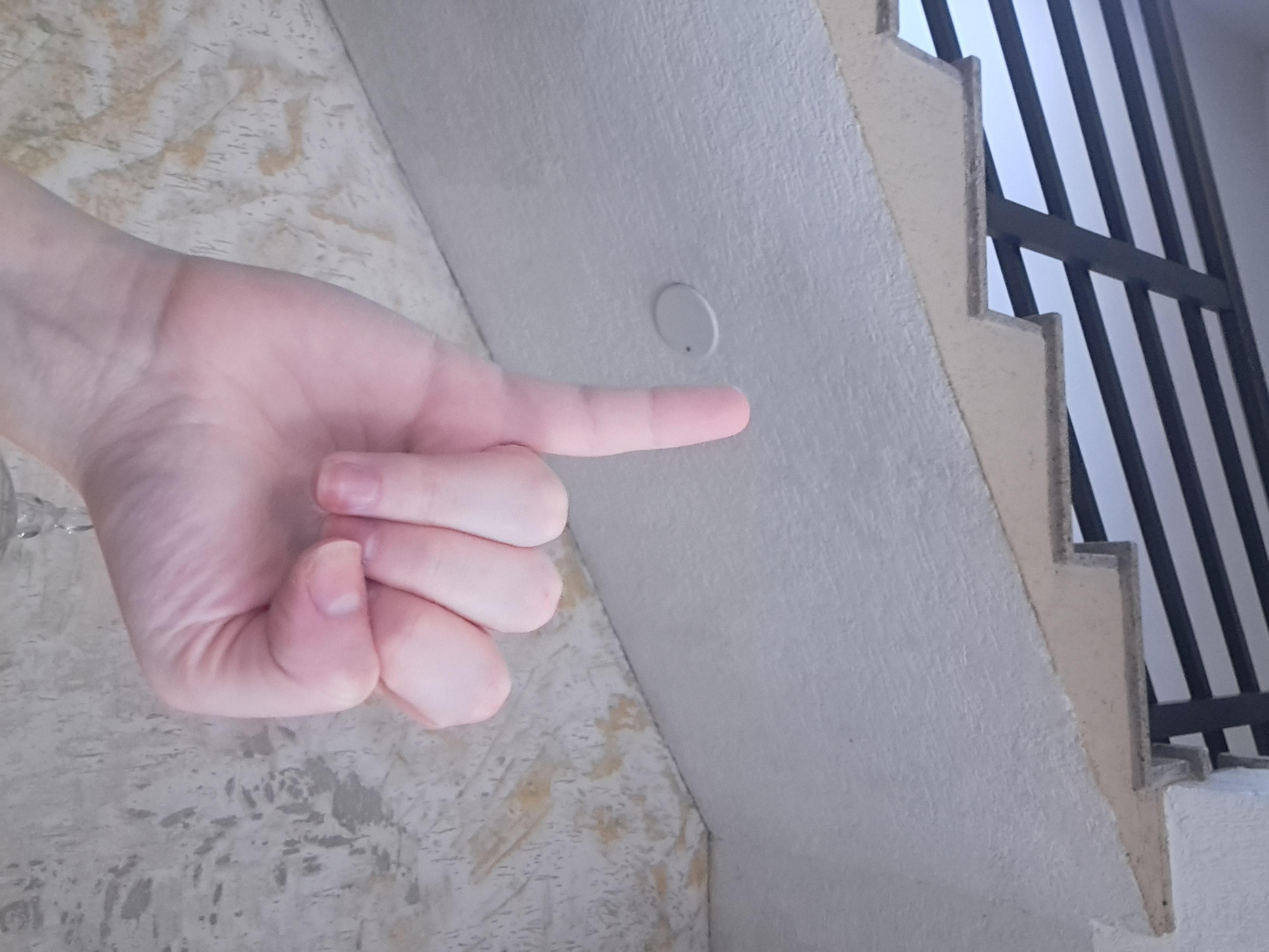I: (316, 373, 1000, 890)
